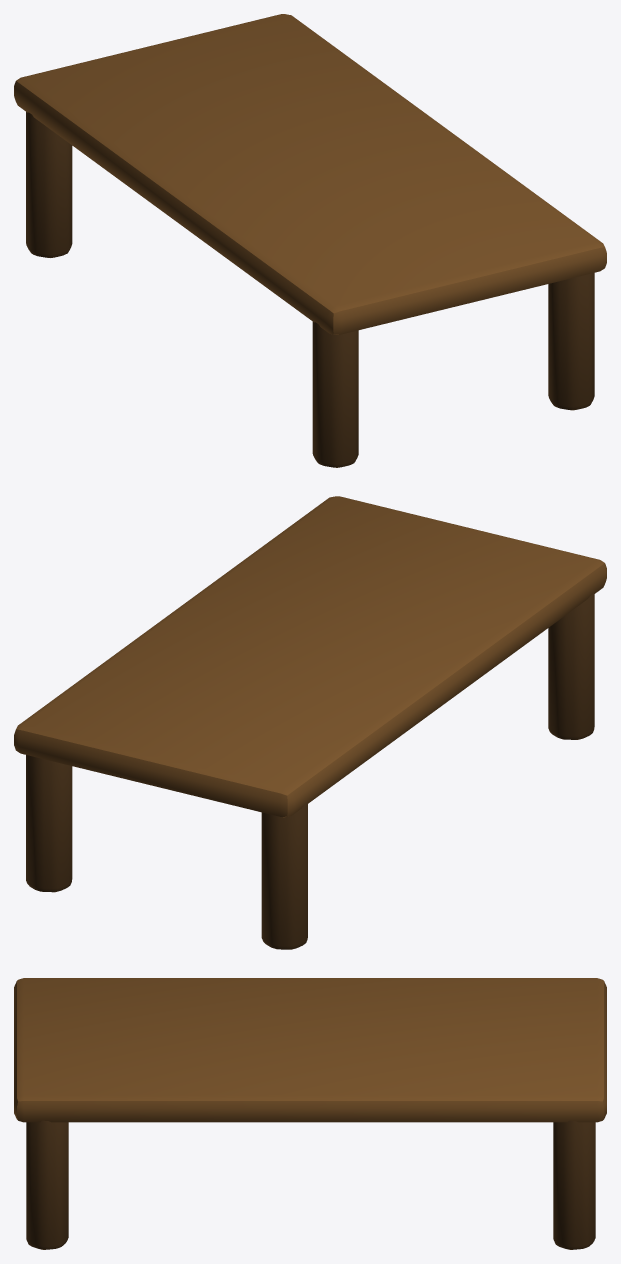
File: prop_dock.glb
3 views of the same model, one above another, from view 1: azimuth 30°, elevation 25°; view 2: azimuth 150°, elevation 25°; view 3: azimuth 270°, elevation 25° (orthographic). The views are drawn at different scales.
Parts seen in each view (by area): view 1: dock_deck, dock_pile0, dock_pile1, dock_pile2; view 2: dock_deck, dock_pile2, dock_pile3, dock_pile0; view 3: dock_deck, dock_pile1, dock_pile3.
Part boxes in pixels (x1,y1,x2,y2): dock_deck: (14, 14, 606, 334); dock_pile0: (312, 322, 358, 467); dock_pile1: (548, 273, 594, 410); dock_pile2: (26, 112, 72, 257); dock_deck: (14, 496, 606, 817); dock_pile2: (261, 803, 307, 949); dock_pile3: (26, 755, 72, 892); dock_pile0: (548, 593, 594, 739); dock_deck: (14, 978, 606, 1122); dock_pile1: (26, 1120, 68, 1249); dock_pile3: (553, 1120, 595, 1249).
Size of the model in its own units: 0.9 by 0.515 by 1.8.
